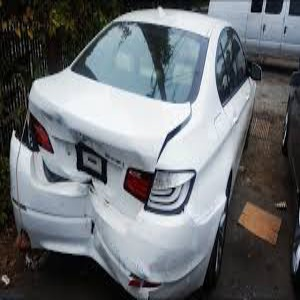bumper: (15, 206, 199, 297)
